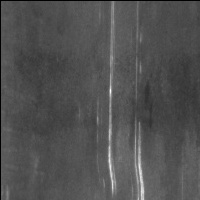scratches: (104, 1, 123, 199), (130, 118, 150, 200)
